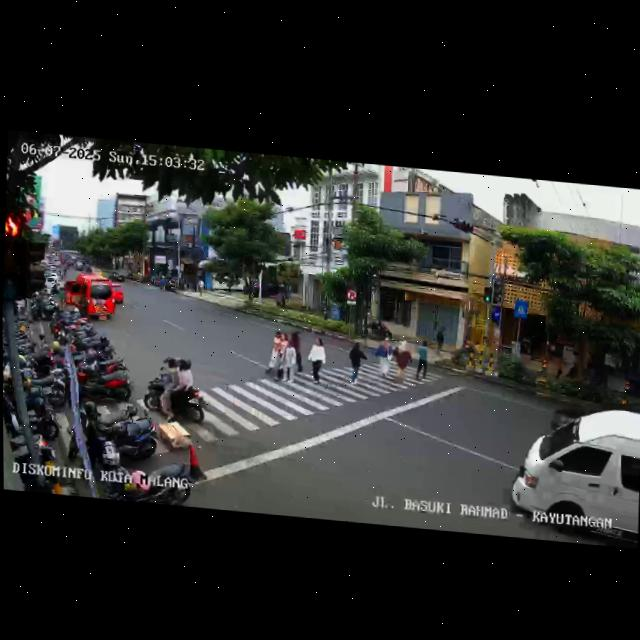car: (507, 399, 640, 548), (58, 273, 116, 323)
motorcycle: (143, 352, 207, 426)
person: (305, 334, 328, 387), (391, 334, 413, 387), (345, 338, 364, 387), (263, 328, 281, 376), (373, 334, 393, 377), (413, 339, 431, 384), (279, 338, 296, 384), (289, 330, 303, 373), (280, 332, 288, 354)
